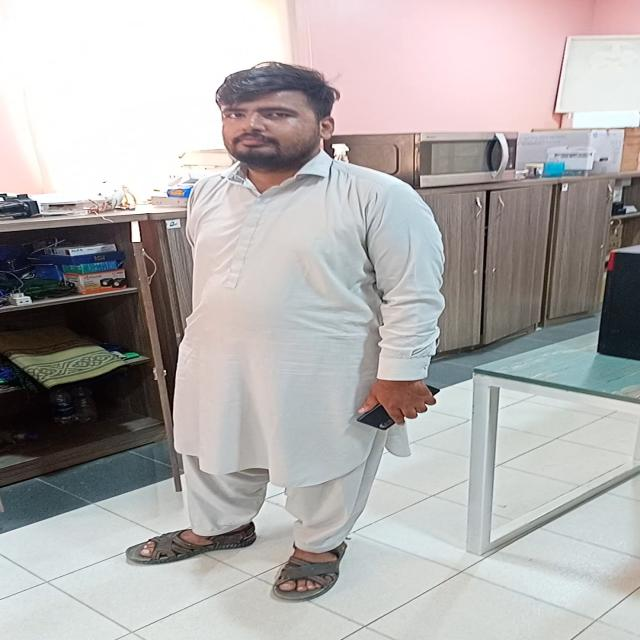dress: (175, 149, 444, 586)
